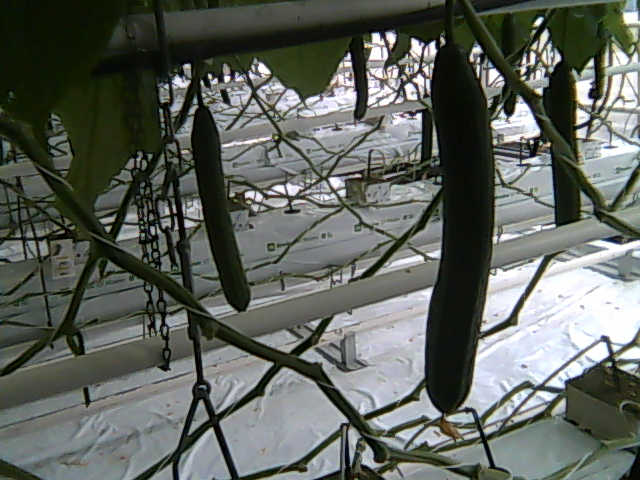concombre: (420, 33, 500, 449)
